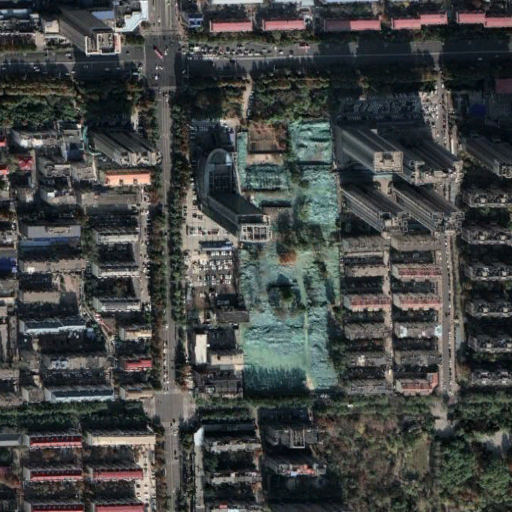cw: (234, 118, 340, 393)
